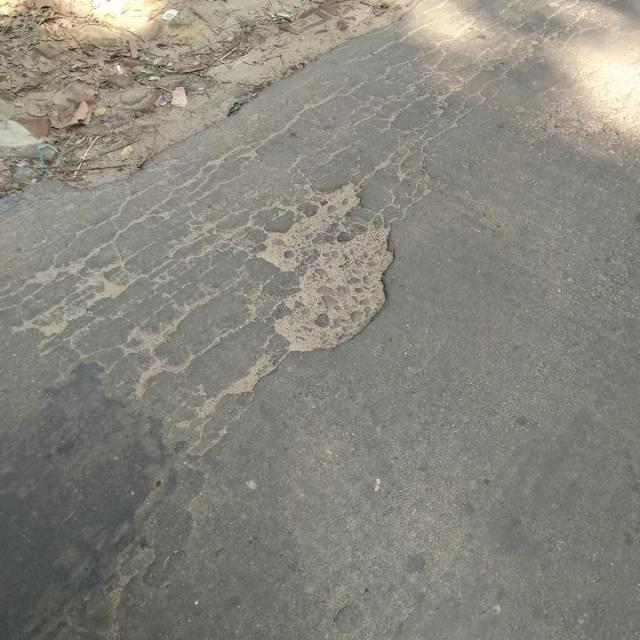Pothole: (253, 181, 403, 355)
